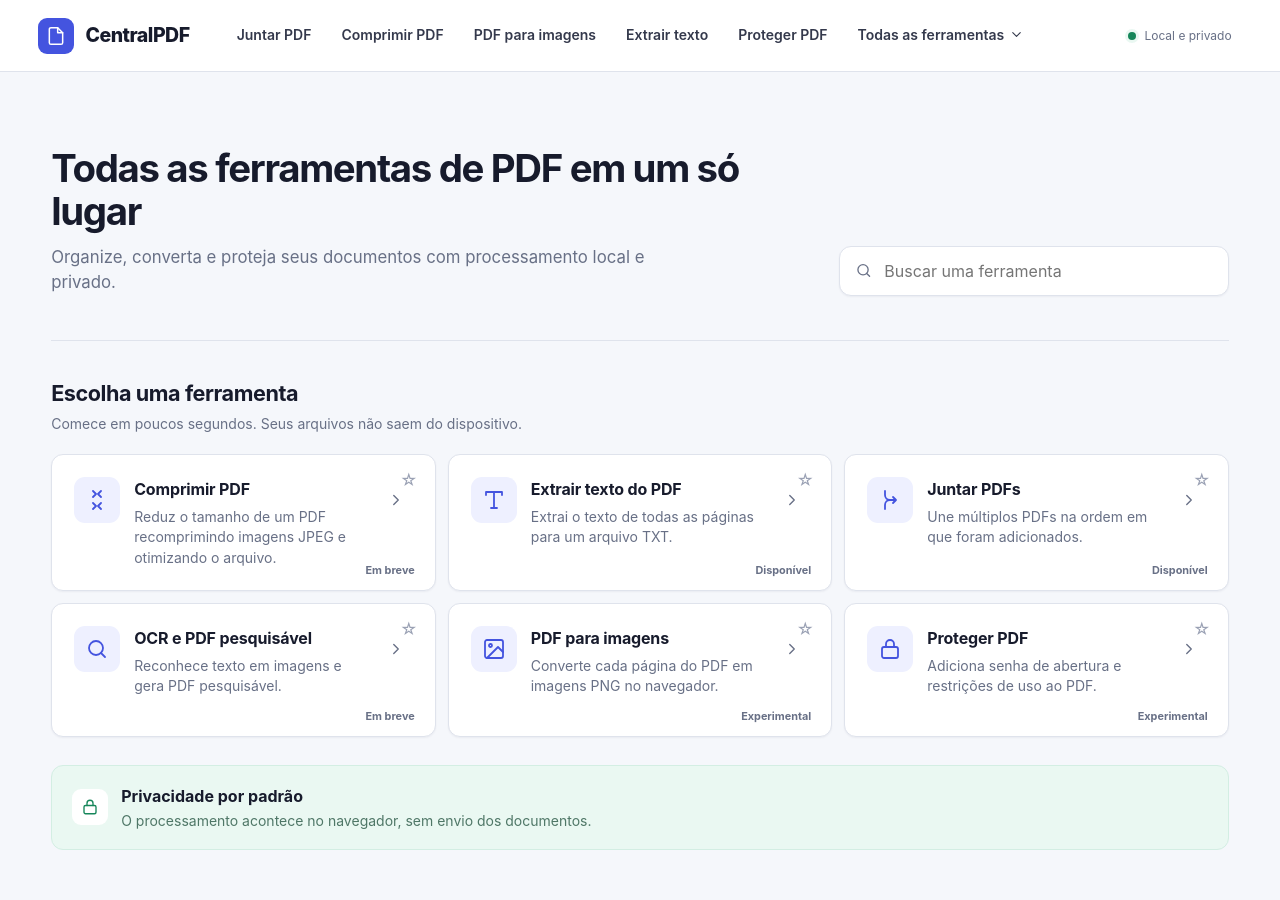
Test: Acessibilidade (roles ARIA e nomes acessíveis) › voltar à home preserva o foco sem abrir o workspace
Click the button "Juntar PDFs" at (1037, 521), box [845,455,1228,587]
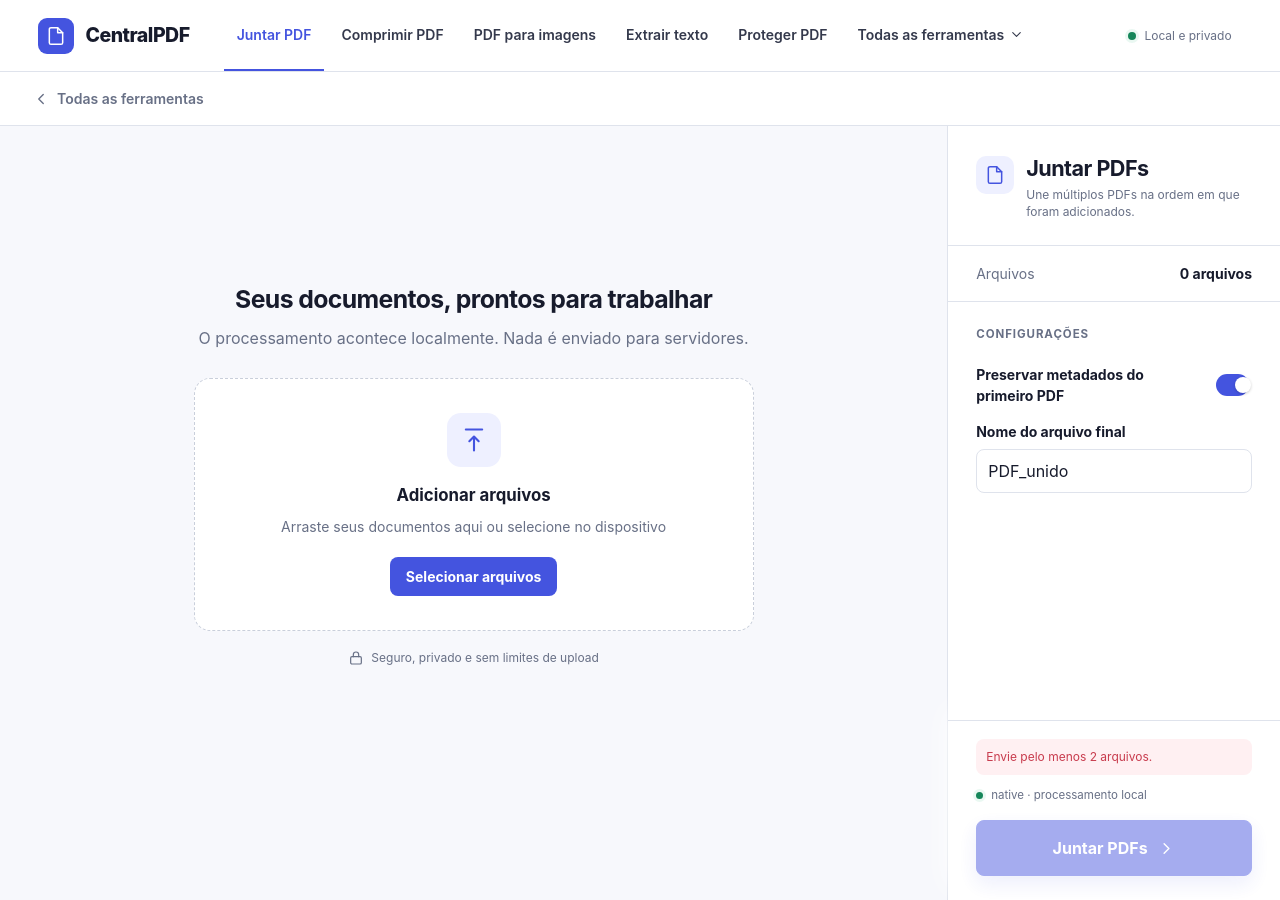
Click the button with aria-label "CentralPDF 2.0" at (114, 36), box [38,18,190,54]
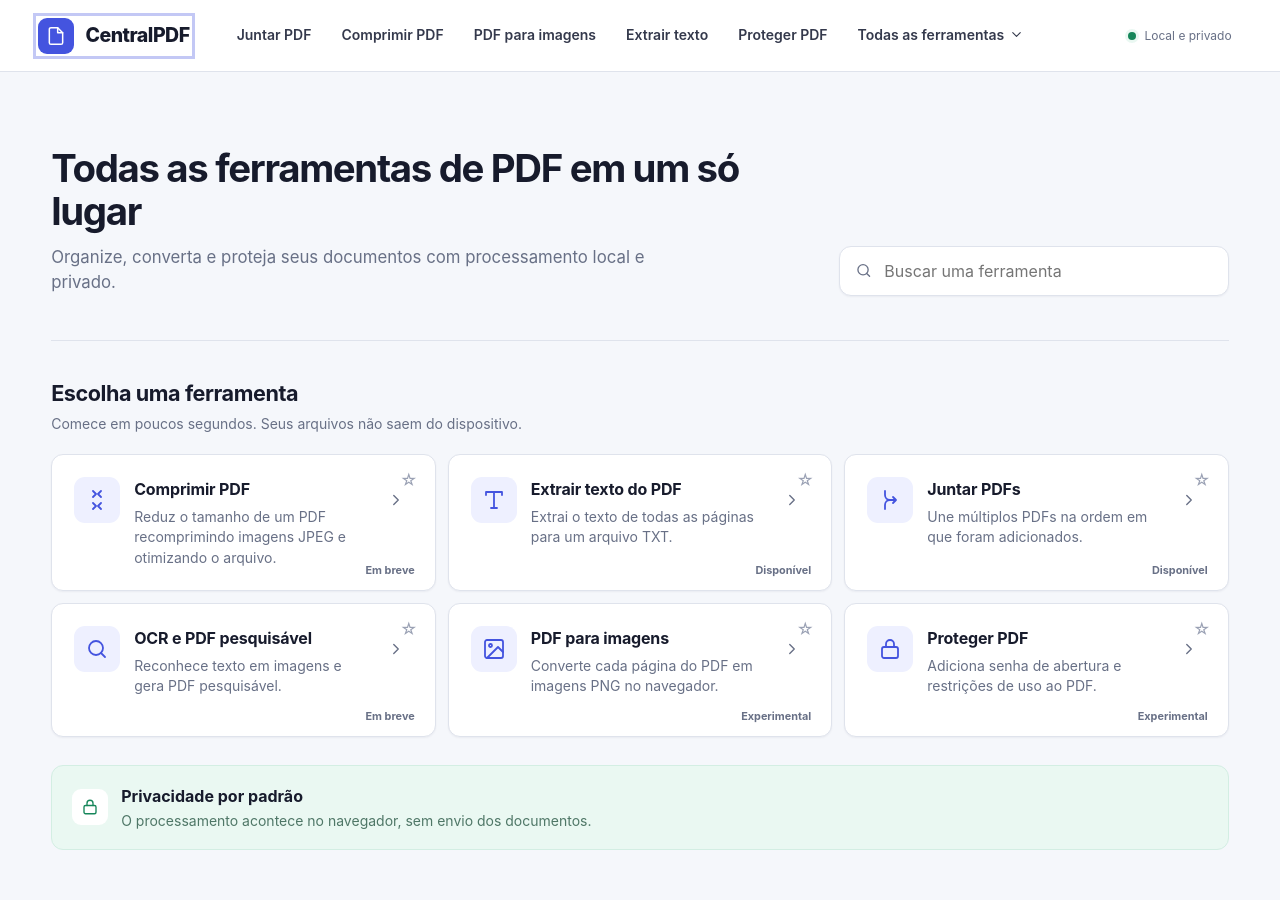
Expected: the heading "Todas as ferramentas de PDF em um só lugar" is shown, [51,147,751,233]
